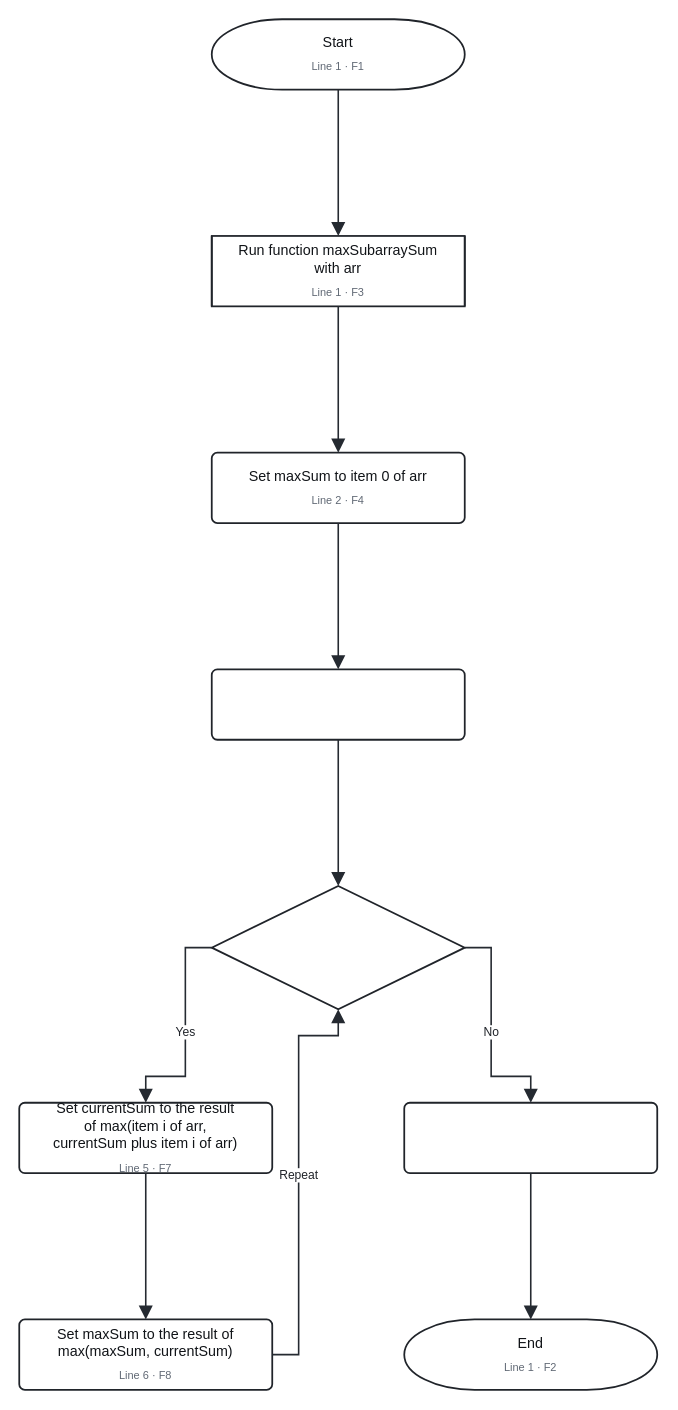
The diagram is 678 pixels wide and 1410 high, and some of its shapes have lost their labels. The shapes that lost their labels are listed below. From the top down, each one's box as (x1, y1, x2, y2) in pixels, then its label:
(210, 668, 465, 740): Set currentSum to item 0 of arr Line 3 · F5
(210, 885, 465, 1010): For i from 1 to the length of arr minus 1 plus 1 Line 4 · F6
(403, 1101, 658, 1173): Return maxSum Line 8 · F9
